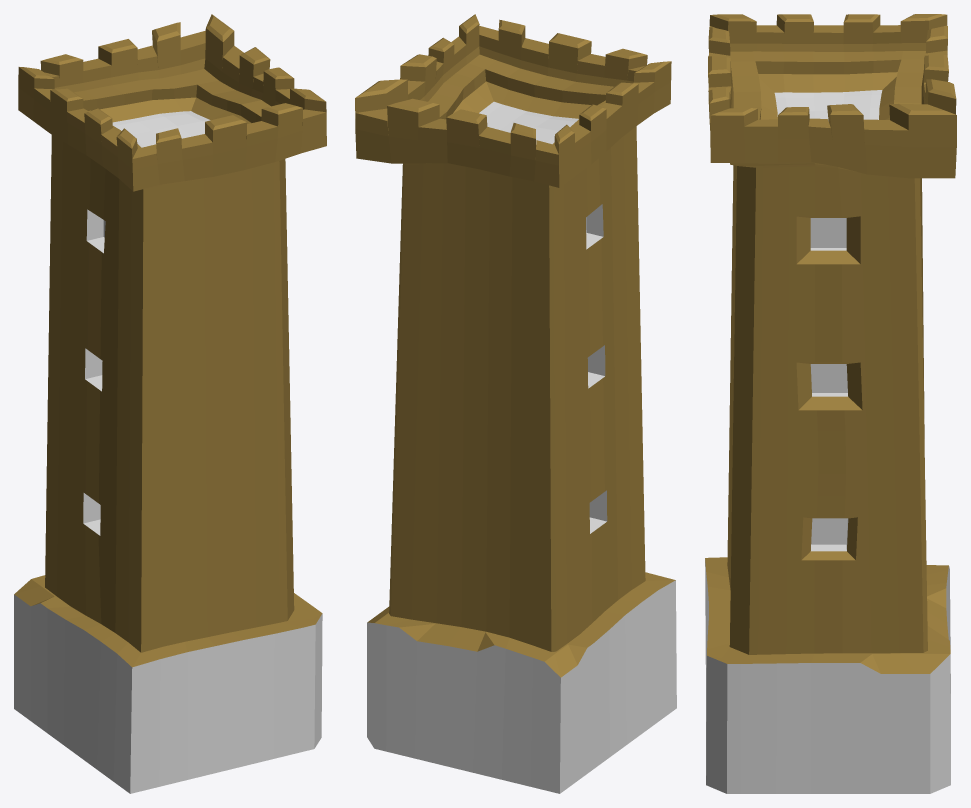
Rendered from Tower_Def_4_Yellow.fbx.
3 renders of one model, left to right at view 1: azimuth 30°, elevation 25°; view 2: azimuth 150°, elevation 25°; view 3: azimuth 270°, elevation 25°, orthographic. The views are drawn at different scales.
Parts seen in each view (by area): view 1: Cube.006; view 2: Cube.006; view 3: Cube.006.
Boxes of the visible parts, <box> form: Cube.006: <box>14,14,326,793</box>; Cube.006: <box>355,14,676,793</box>; Cube.006: <box>705,14,956,793</box>.
Size of the model in its own units: 129 by 394 by 132.
